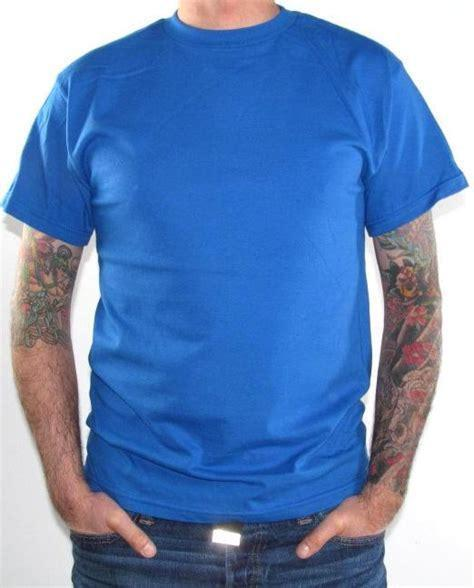Tshirt: (0, 10, 470, 524)
